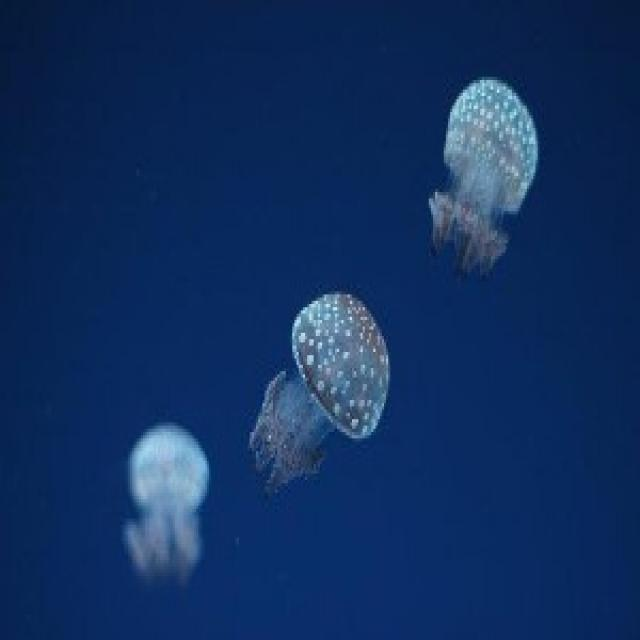Jellyfish: (245, 273, 400, 500), (429, 77, 546, 292), (120, 422, 212, 590)
